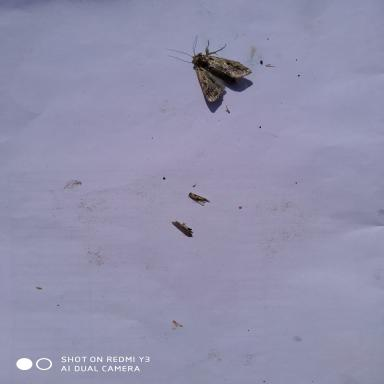abw: (167, 35, 252, 102)
pbw: (171, 220, 193, 235), (188, 191, 210, 205), (225, 105, 230, 113), (265, 64, 275, 66)
